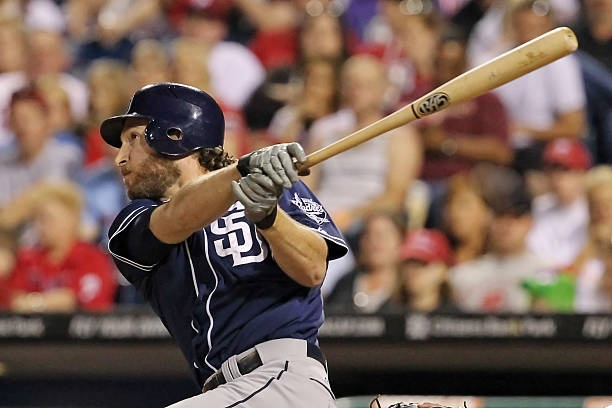bita: (297, 28, 576, 172)
